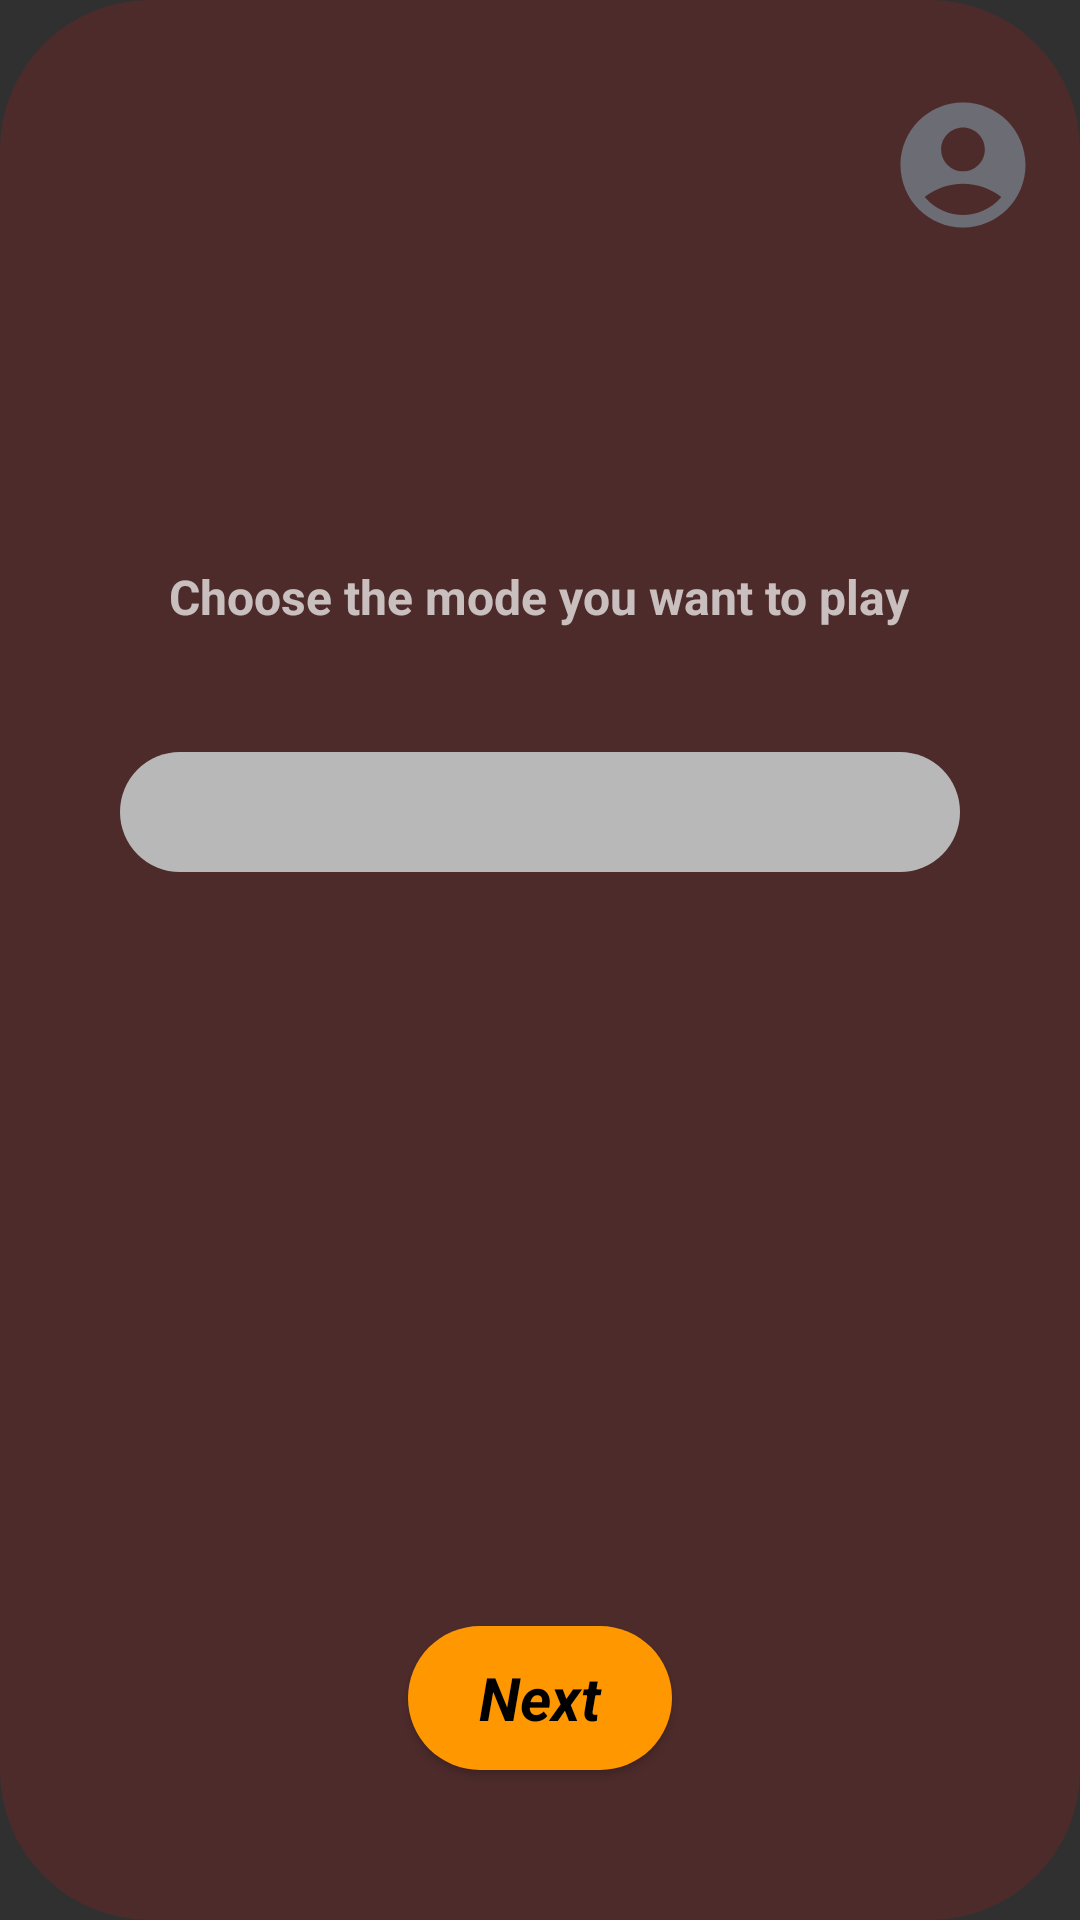

Icons on this 1080x1920 Android screen, each with its box as (x1, y1, x2, y2):
account circle: (900, 102, 1026, 228)
